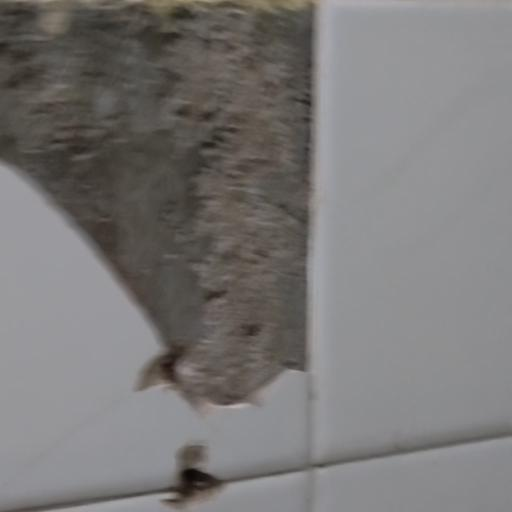spalling: (0, 0, 332, 422)
